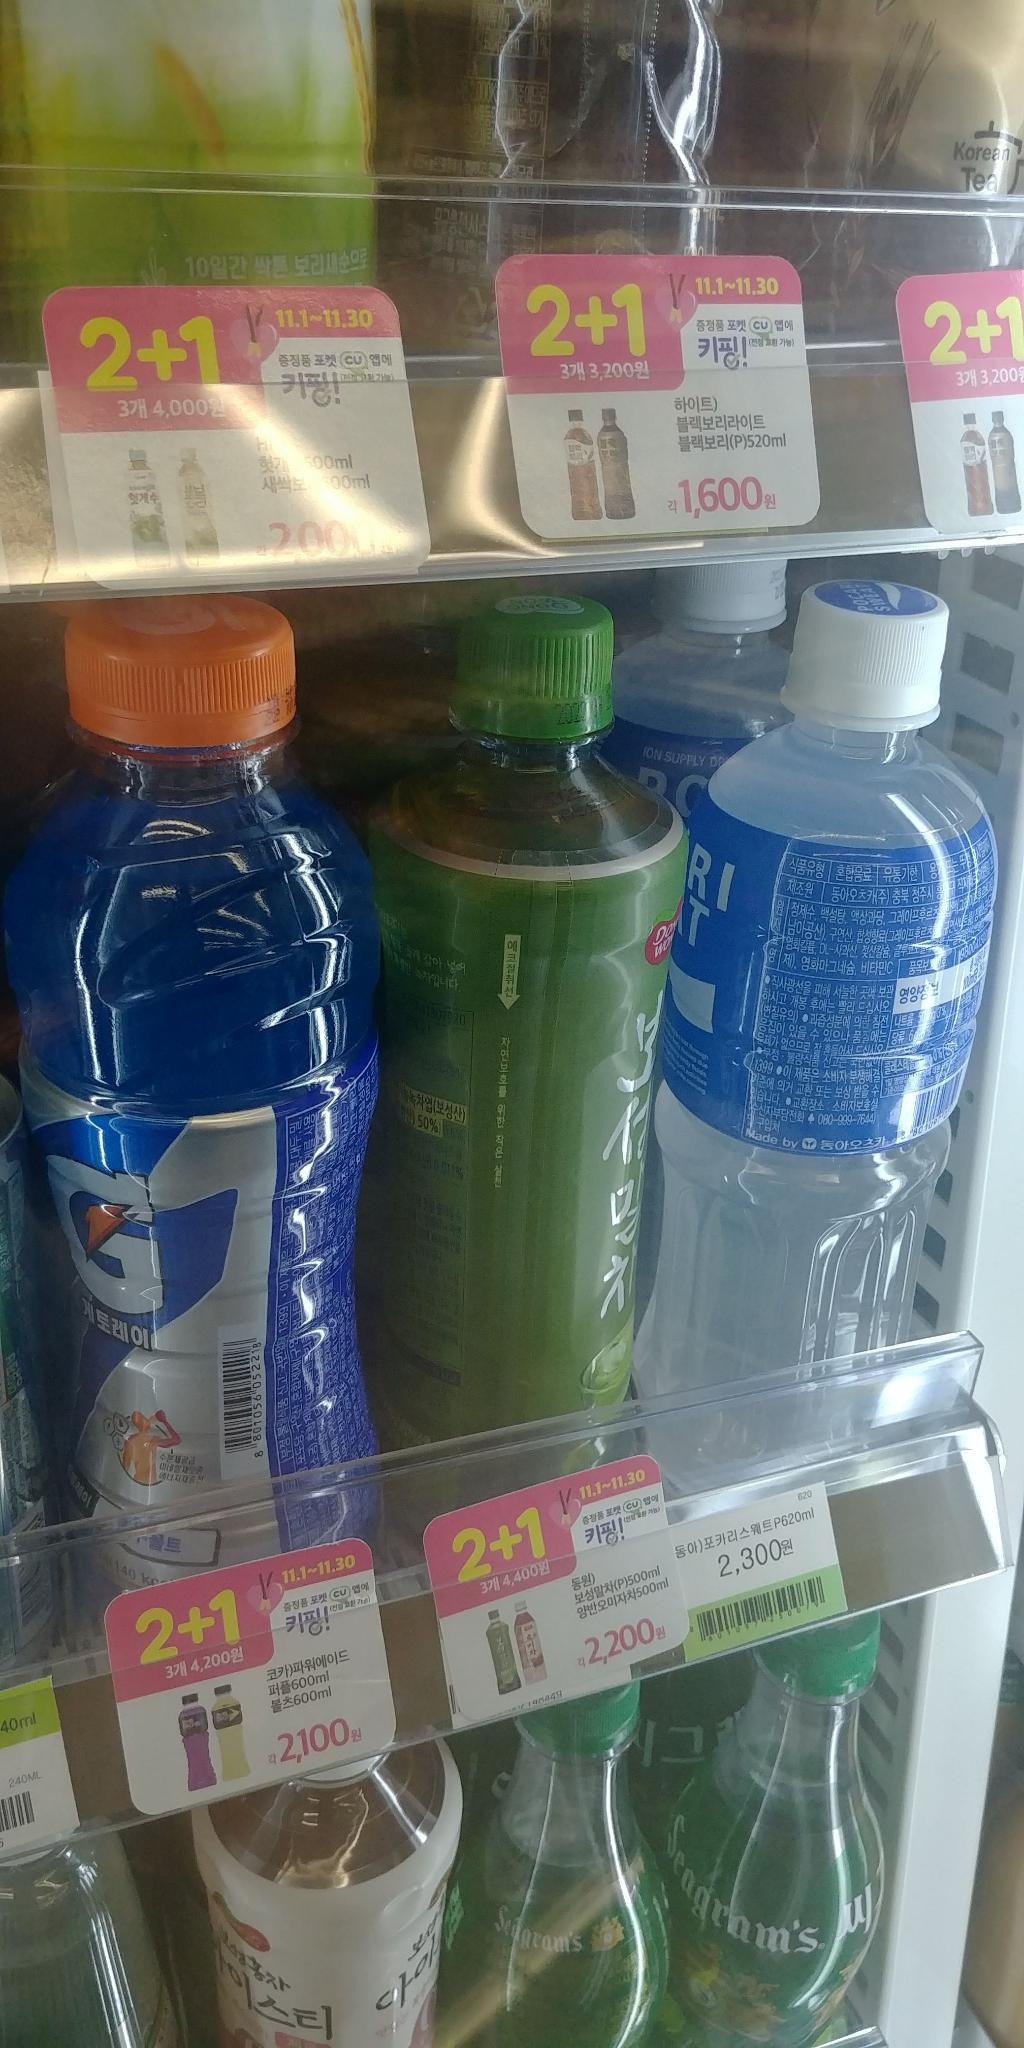pocarisweat: (647, 554, 972, 1510)
